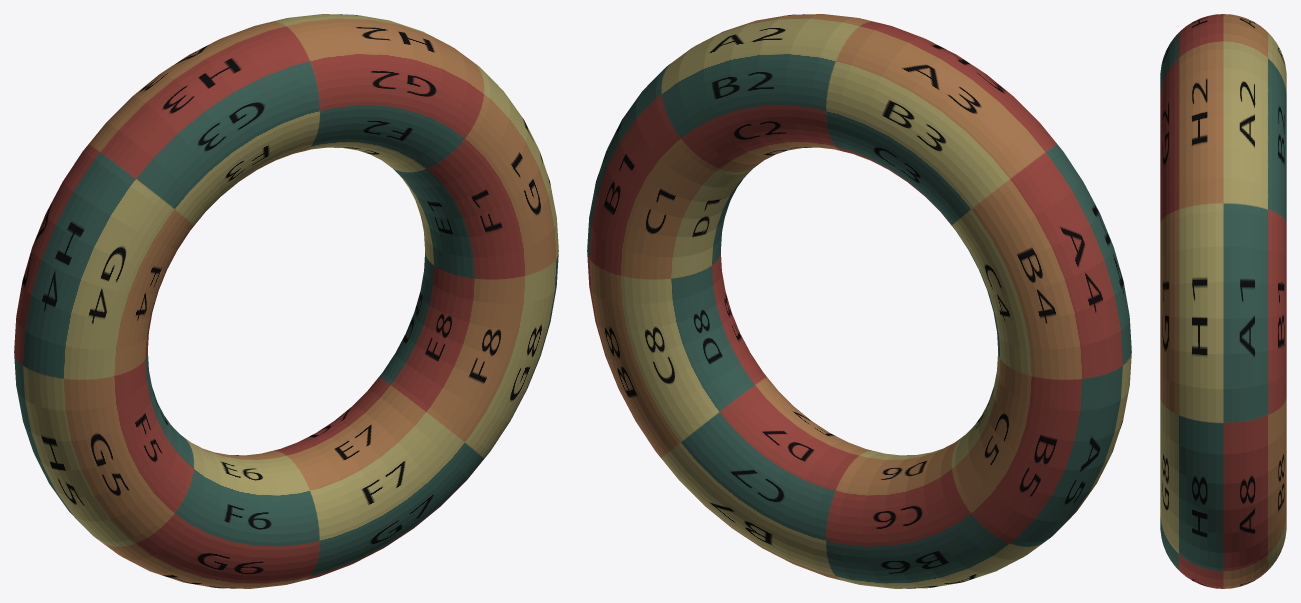
Rendered from texture_torus_R7_r8.glb.
3 views of the same model, side by side, from view 1: azimuth 30°, elevation 25°; view 2: azimuth 150°, elevation 25°; view 3: azimuth 270°, elevation 25° (orthographic). The views are drawn at different scales.
Parts seen in each view (by area): view 1: world; view 2: world; view 3: world.
Boxes of the visible parts, x1=… form: world: x1=14, y1=14, x2=558, y2=588; world: x1=587, y1=14, x2=1131, y2=588; world: x1=1160, y1=14, x2=1286, y2=588.
Bounding box in the file's own units: 18.8 × 18.76 × 4.13.
1 material, 1 textured.
